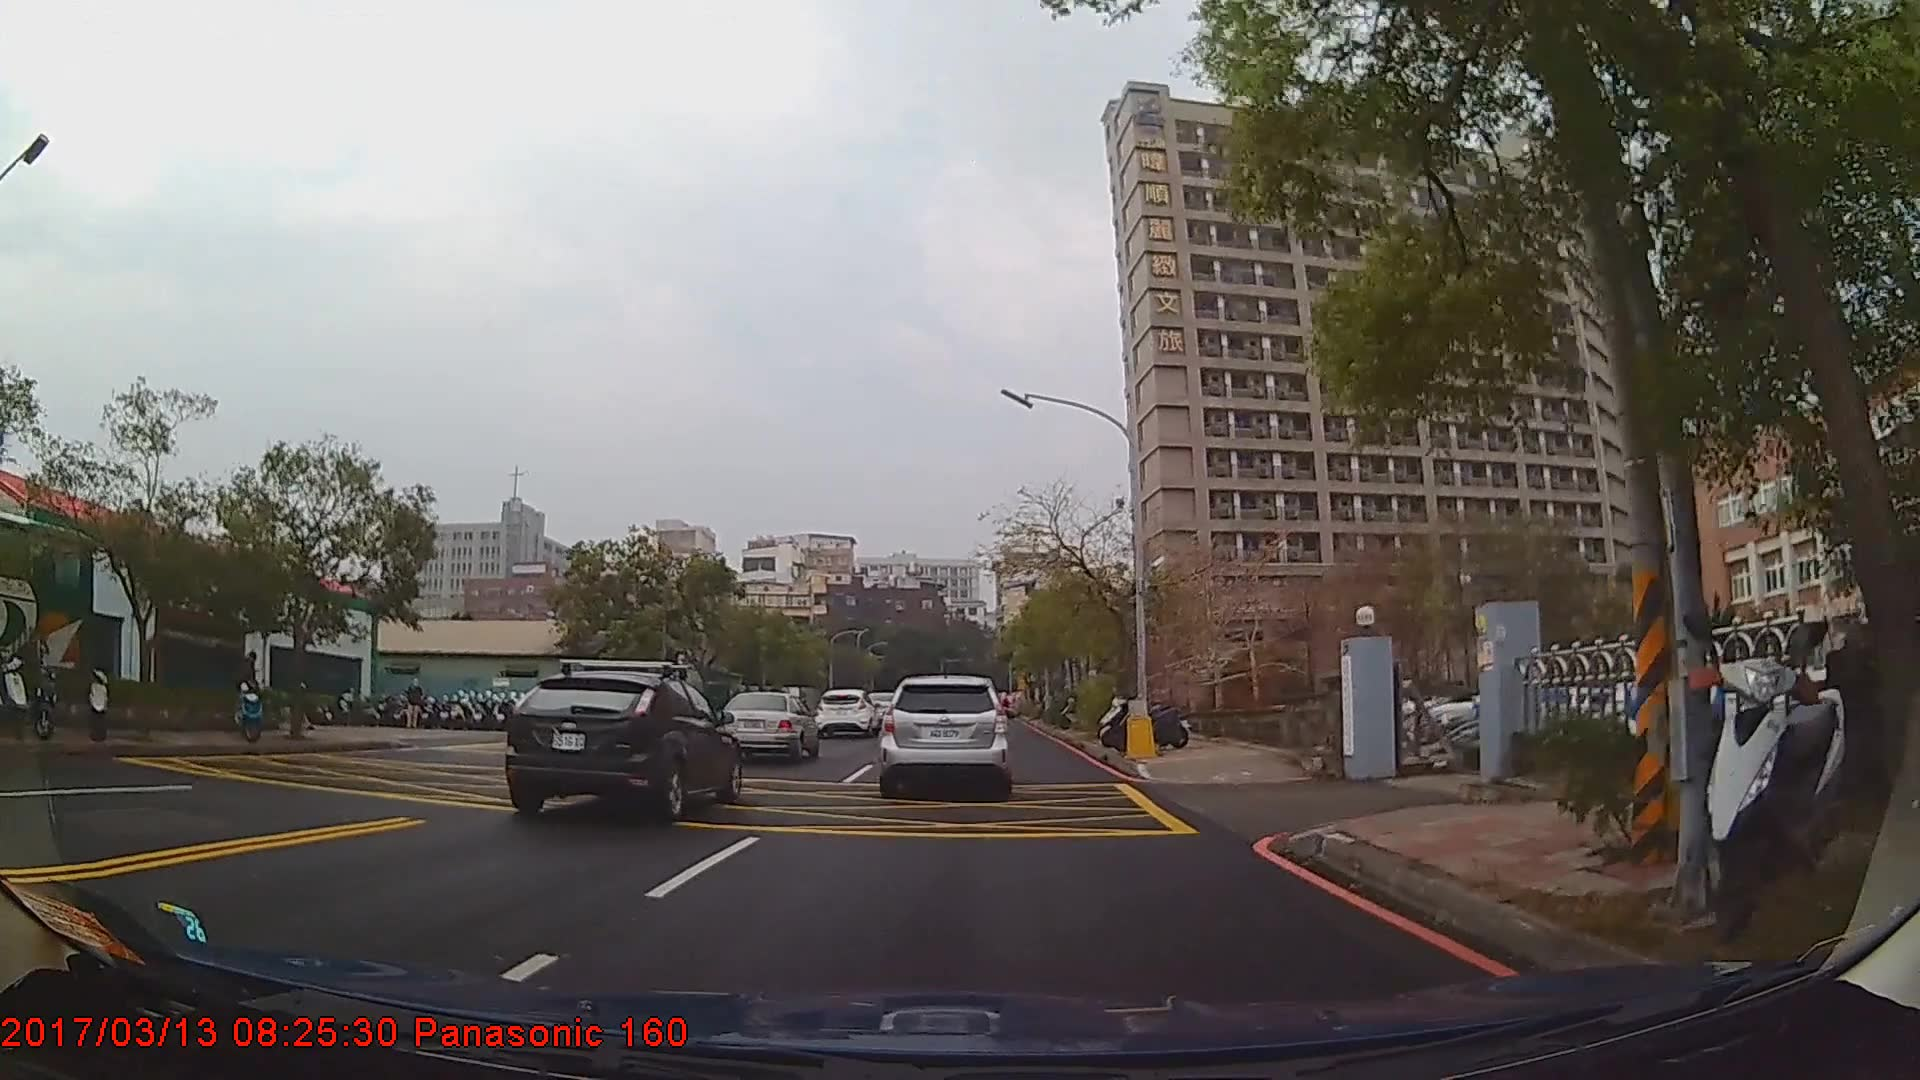pedestrian: (406, 680, 426, 731)
vehicle: (502, 668, 742, 817), (0, 502, 94, 720), (880, 673, 1007, 790), (719, 689, 820, 761), (814, 686, 879, 737)
